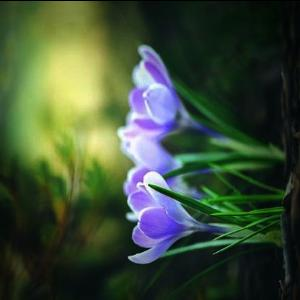Saffron: (127, 42, 203, 140), (126, 170, 204, 264), (118, 125, 183, 196)
